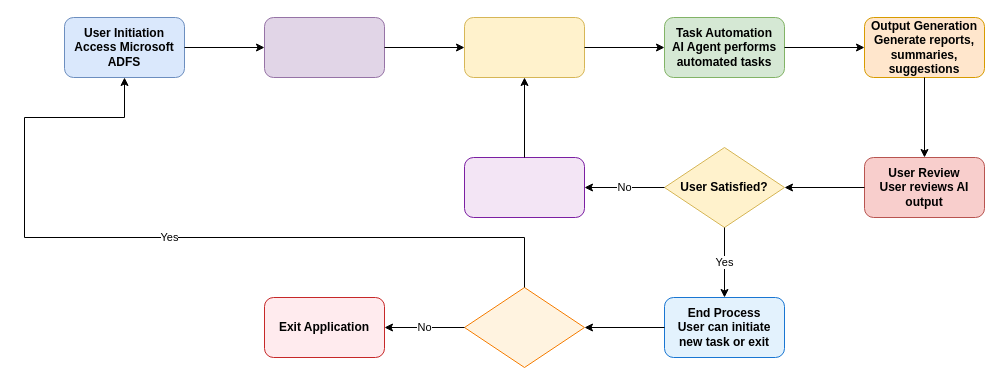
Some shapes in this 1002 by 385 pixel diagram are drawn without their labels. The shapes that lost their labels are listed below. From the top down, each one's box as (x1, y1, x2, y2) in pixels, then its label:
(264, 16, 384, 78): Input Data User inputs data or selects task
(464, 16, 584, 78): Data Processing AI Agent processes input using algorithms/models
(464, 156, 584, 218): Feedback Loop User provides feedback for improvement
(464, 286, 584, 368): Continue?
